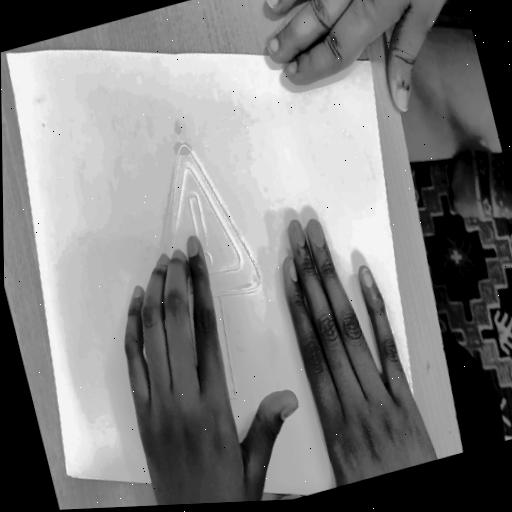bottom_right: (57, 465, 73, 484)
signboard: (126, 116, 286, 445)
top_left: (364, 52, 376, 71)
top_right: (1, 52, 14, 62)
